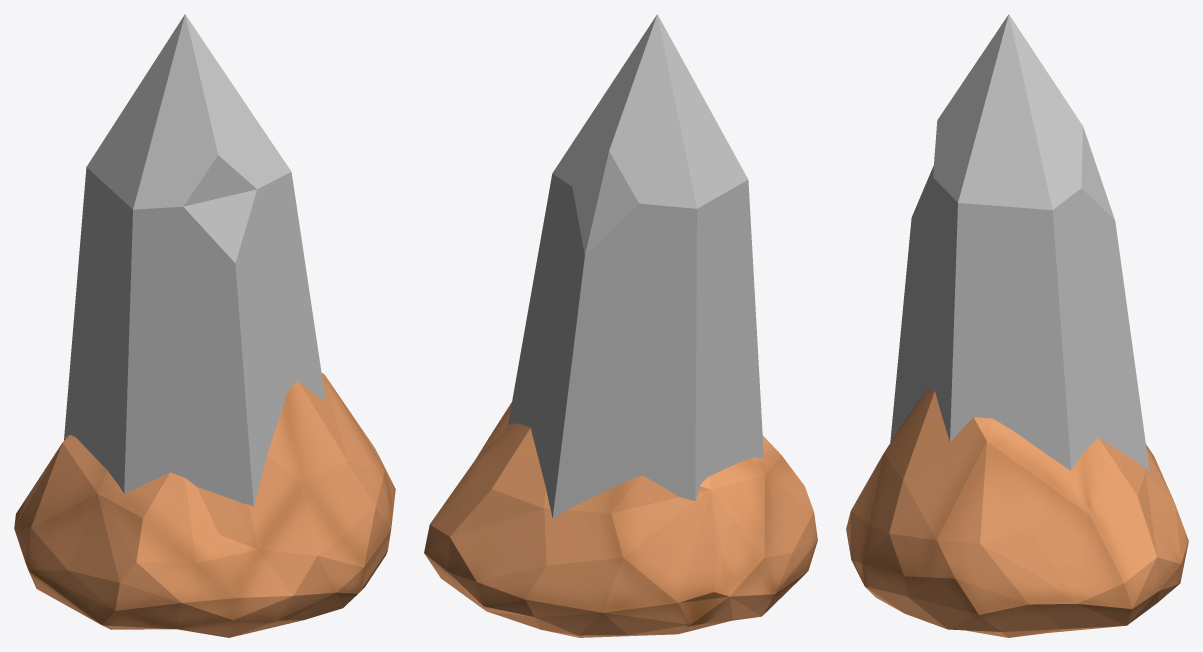
Rendered from emas111.fbx.
3 views of the same model, side by side, from view 1: azimuth 30°, elevation 25°; view 2: azimuth 150°, elevation 25°; view 3: azimuth 270°, elevation 25° (orthographic). The views are drawn at different scales.
Parts seen in each view (by area): view 1: Cube.105; view 2: Cube.105; view 3: Cube.105.
Boxes of the visible parts, box(x1,y1,x2,y2) form: Cube.105: box(14, 14, 395, 637); Cube.105: box(424, 14, 817, 637); Cube.105: box(846, 14, 1188, 637).
Size of the model in its own units: 636 by 1094 by 603.
